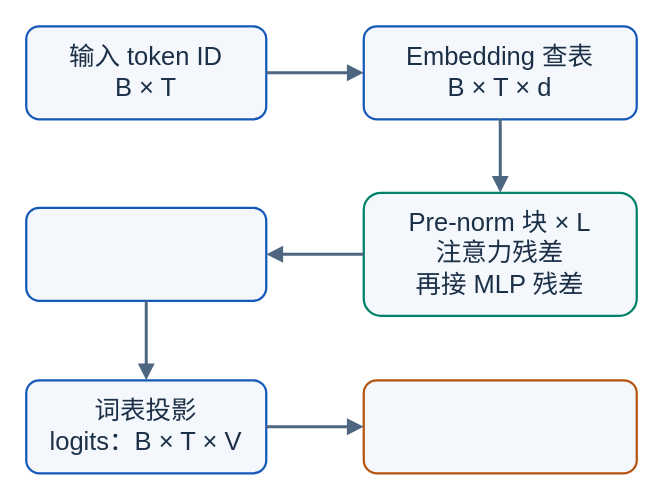
This 665x501 diagram has some shape labels left out. The shapes that lost their labels are listed below. From the top down, each one's centre as x and y in pixels, then its label:
At point (145, 253): "最终 RMSNorm B × T × d".
At point (499, 426): "移位目标、交叉熵 平均到有效 token".
